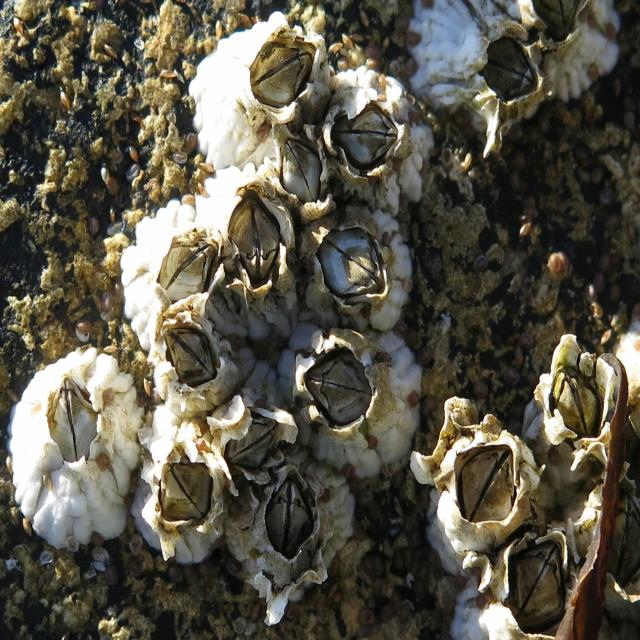barnacles: (4, 343, 134, 548), (288, 324, 430, 482), (418, 2, 550, 147), (419, 391, 534, 554), (204, 164, 304, 344), (463, 517, 610, 639), (519, 322, 631, 469), (182, 12, 324, 126), (238, 480, 354, 604), (307, 206, 415, 336), (327, 69, 430, 205), (113, 187, 225, 302), (140, 426, 230, 563), (143, 304, 235, 405), (221, 391, 300, 491), (254, 132, 338, 216)
